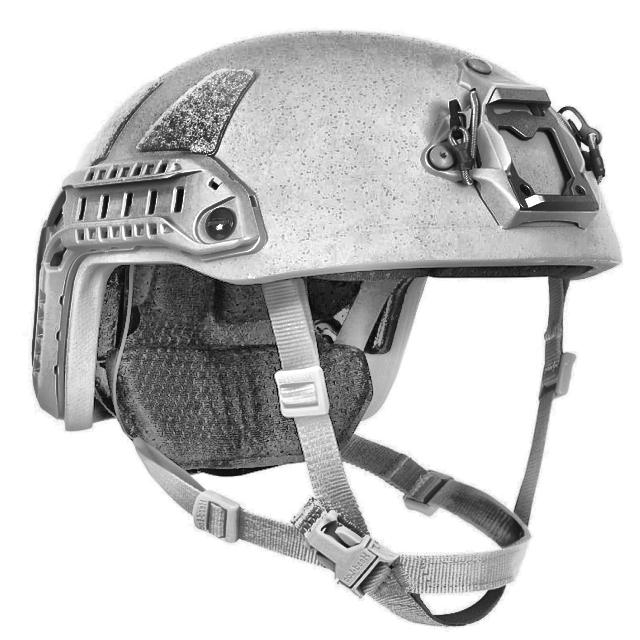Helmet: (19, 38, 619, 631)
